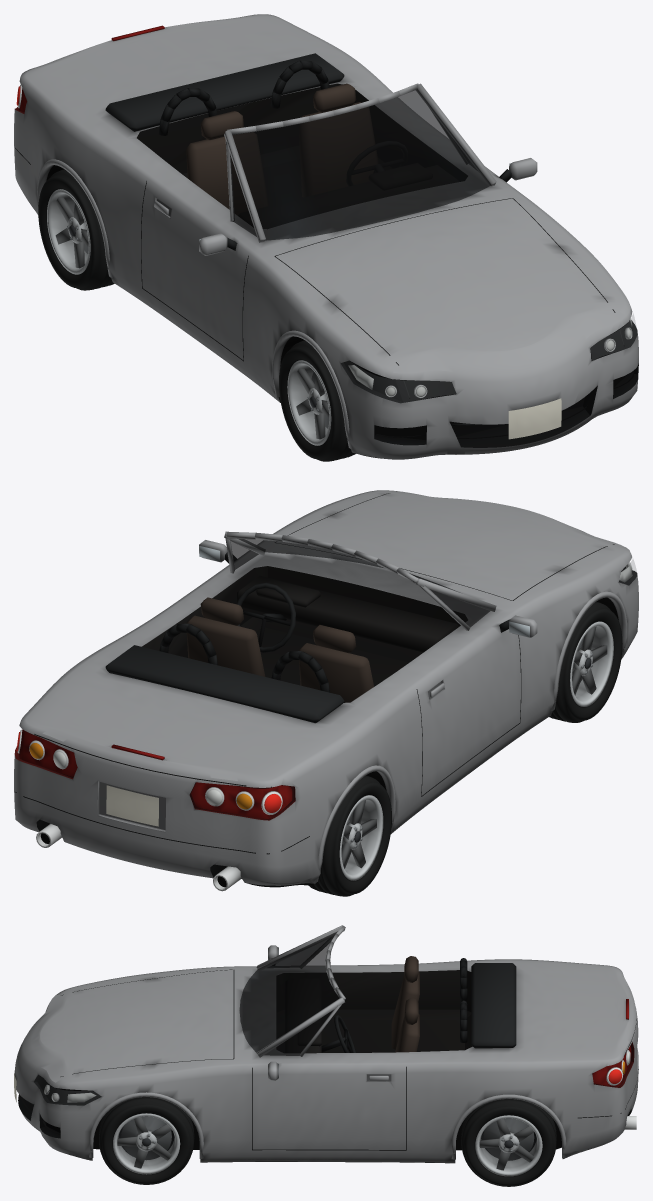
File: honda-s2000.glb
3 views of the same model, one above another, from view 1: azimuth 30°, elevation 25°; view 2: azimuth 150°, elevation 25°; view 3: azimuth 270°, elevation 25° (orthographic). The views are drawn at different scales.
Visible parts, largest first — view 1: Coachwork, Body, Wheel_RR, Wheel_FR, Plate; view 2: Coachwork, Body, Wheel_RR, Wheel_FR, Taillights, Plate; view 3: Coachwork, Body, Wheel_RL, Wheel_FL, Taillights.
Boxes of the visible parts, <box> form: Coachwork: <box>14,14,638,459</box>; Body: <box>14,53,637,449</box>; Wheel_RR: <box>38,169,114,290</box>; Wheel_FR: <box>279,340,355,461</box>; Plate: <box>508,398,561,439</box>; Coachwork: <box>14,490,638,887</box>; Body: <box>15,491,637,891</box>; Wheel_RR: <box>308,775,391,896</box>; Wheel_FR: <box>549,601,622,722</box>; Taillights: <box>16,729,292,818</box>; Plate: <box>106,785,158,826</box>; Coachwork: <box>14,959,638,1163</box>; Body: <box>20,925,638,1159</box>; Wheel_RL: <box>461,1099,556,1186</box>; Wheel_FL: <box>99,1097,194,1184</box>; Taillights: <box>592,999,631,1087</box>.
Bounding box in the file's own units: 1.97 × 1.28 × 4.14.
